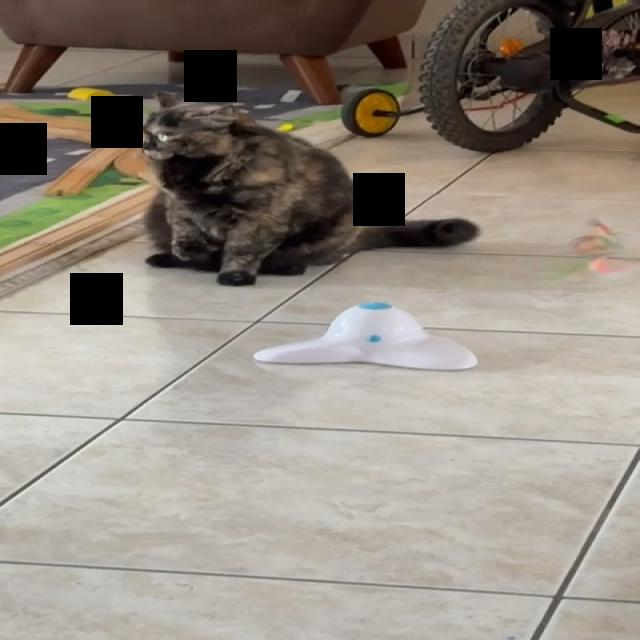authorized: (137, 90, 480, 286)
